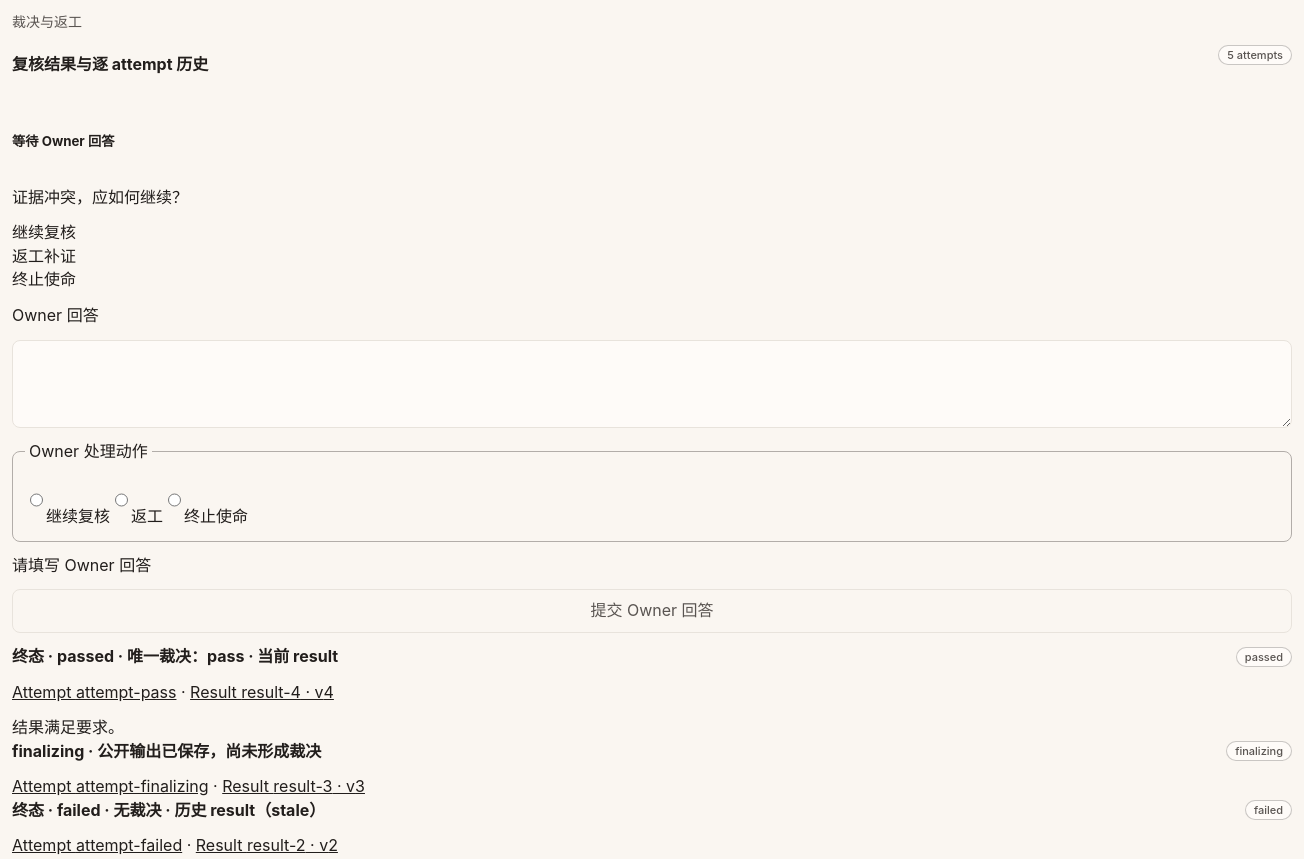
Scenario: review outcomes and attempt history › submits continue_review with owner draft and announces its outcome
Type "保留这个回答草稿并执行所选动作。" into the text box labelled "Owner 回答".
click(652, 384); type("保留这个回答草稿并执行所选动作。")  # box [12,340,1292,428]
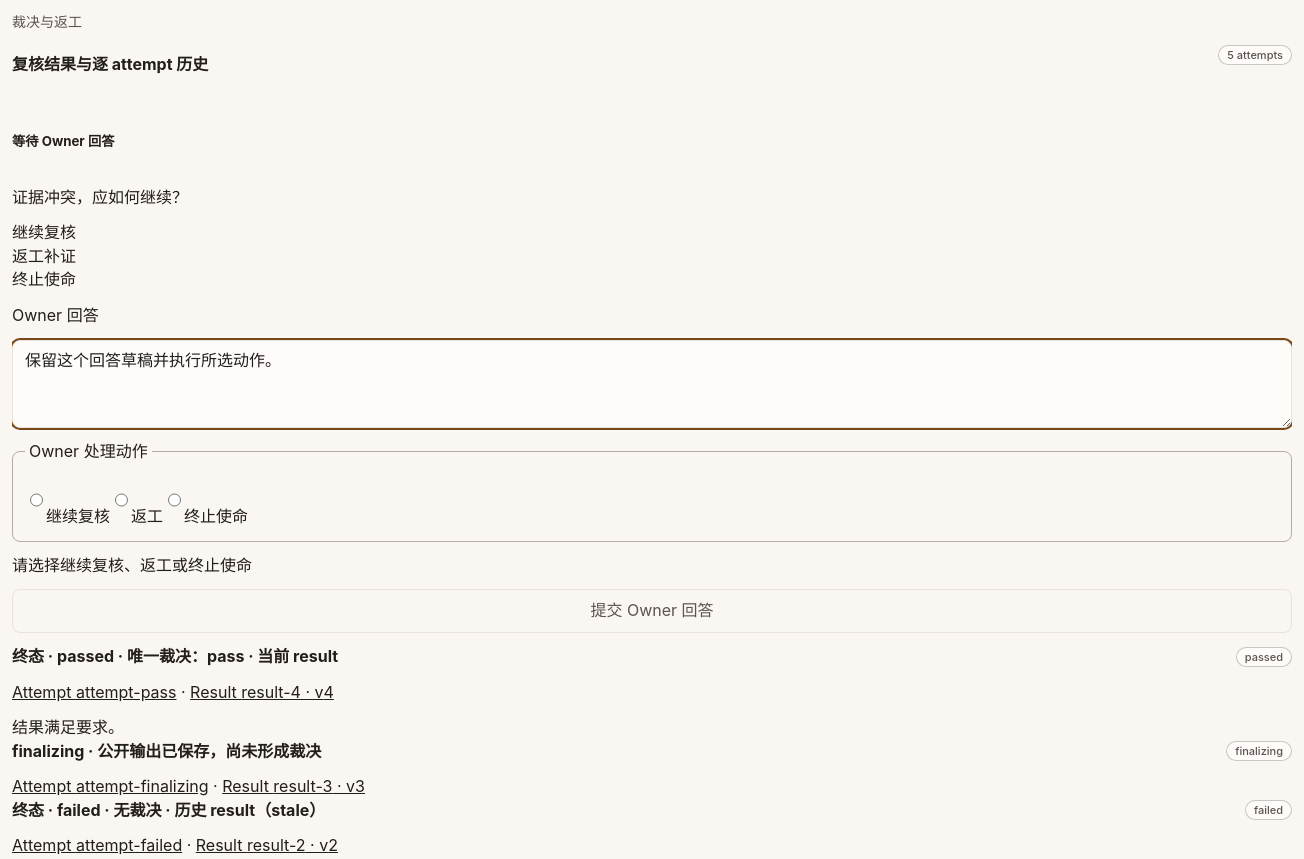
Click the radio button labelled "继续复核".
click(36, 500)  # box [30,478,43,522]
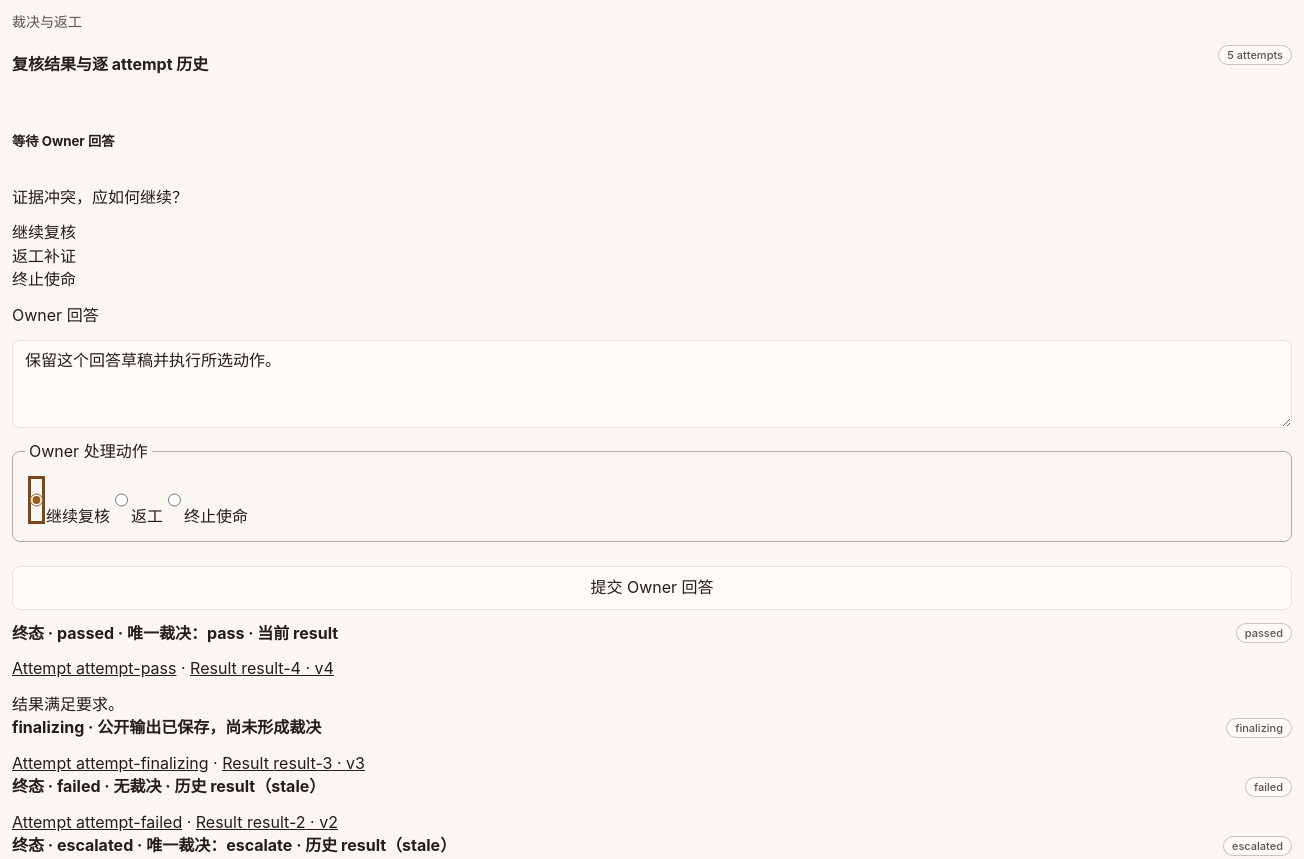
Click the button "提交 Owner 回答".
click(652, 588)  # box [12,566,1292,610]
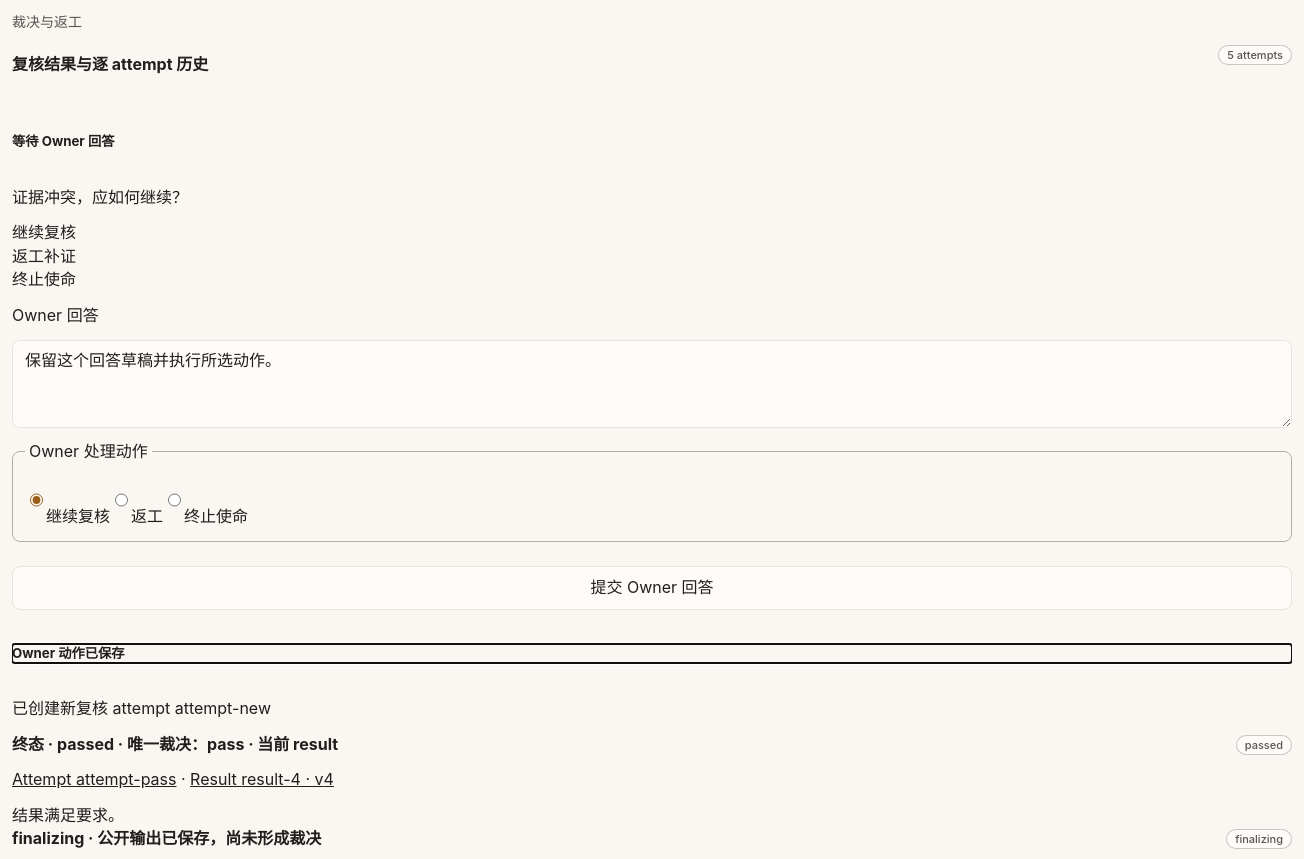
Now the message reads "已创建新复核 attempt attempt-new", box [12,698,271,718]
